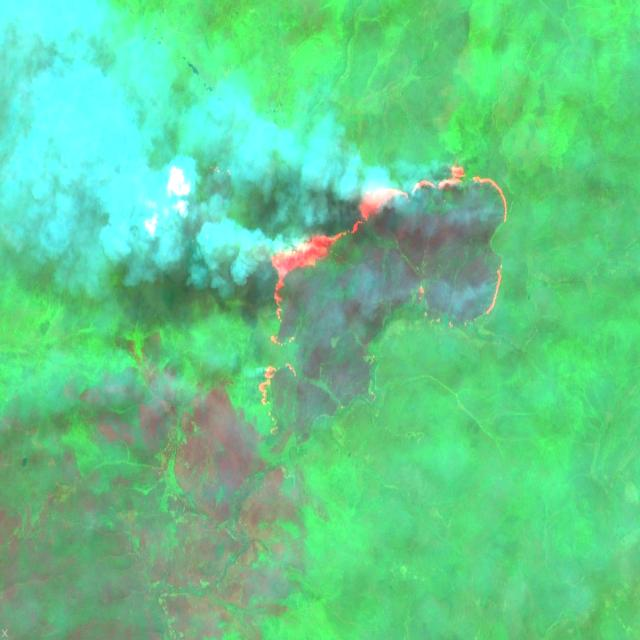fire: (253, 164, 511, 411)
